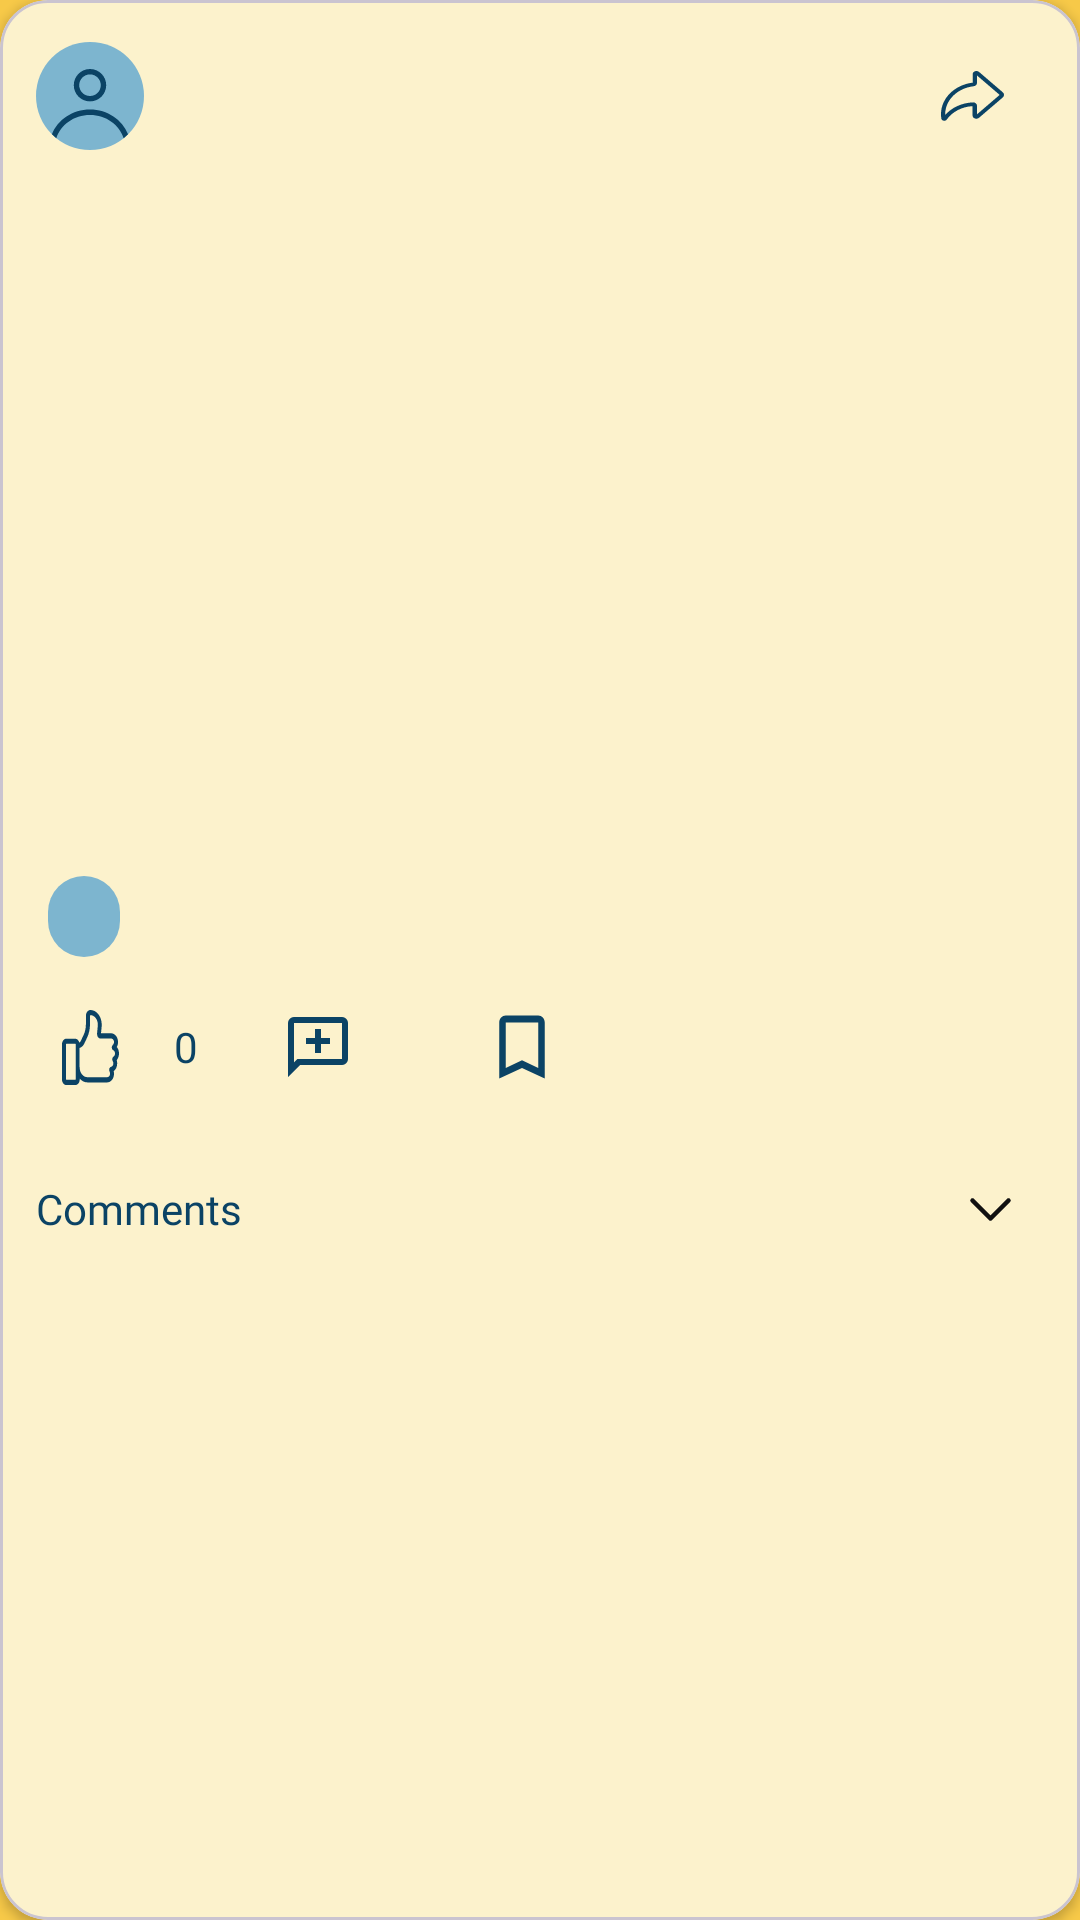

Icons on this 1080 × 1920 Android screen, each with the point to tap as (x,y):
Like: (90,1047)
Save: (522,1047)
Share: (972,96)
